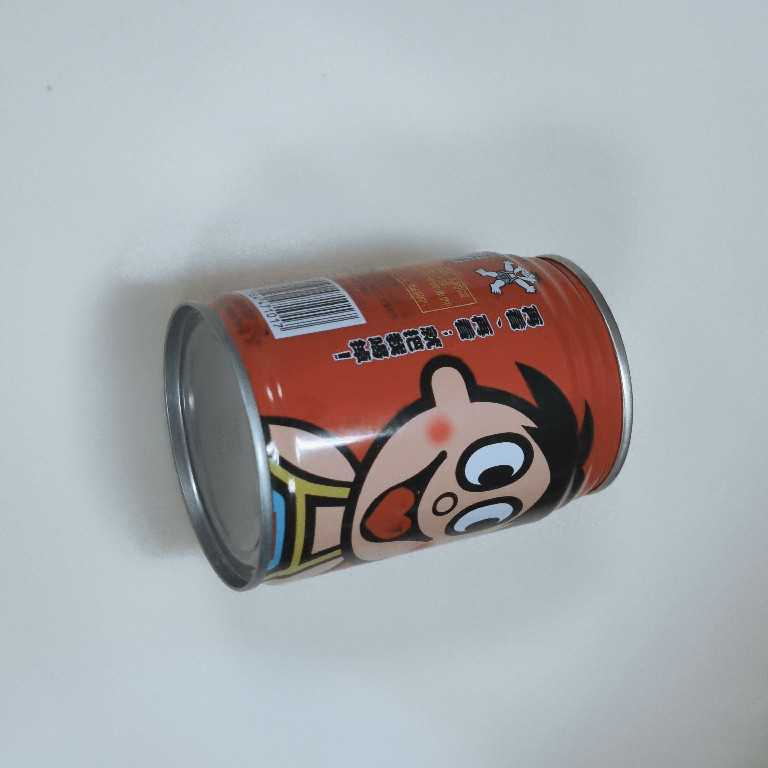can: (159, 250, 637, 596)
